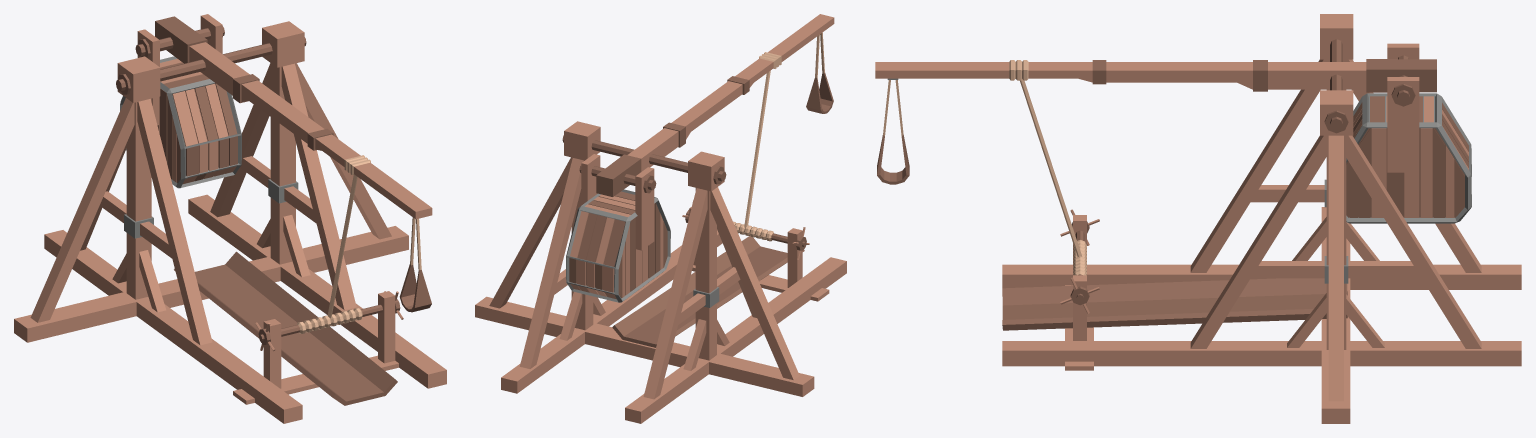
The model's file is ankers-low-poly-medieval-weapons--trebuchet.glb.
3 renders of one model, left to right at view 1: azimuth 30°, elevation 25°; view 2: azimuth 150°, elevation 25°; view 3: azimuth 270°, elevation 25°, orthographic. The views are drawn at different scales.
Parts seen in each view (by area): view 1: Trebuchet; view 2: Trebuchet; view 3: Trebuchet.
Part boxes in pixels (x1,y1,x2,y2): Trebuchet: [14, 14, 446, 423]; Trebuchet: [475, 14, 846, 423]; Trebuchet: [875, 14, 1521, 423].
Bounding box in the file's own units: 10.37 × 6.32 × 14.04.
